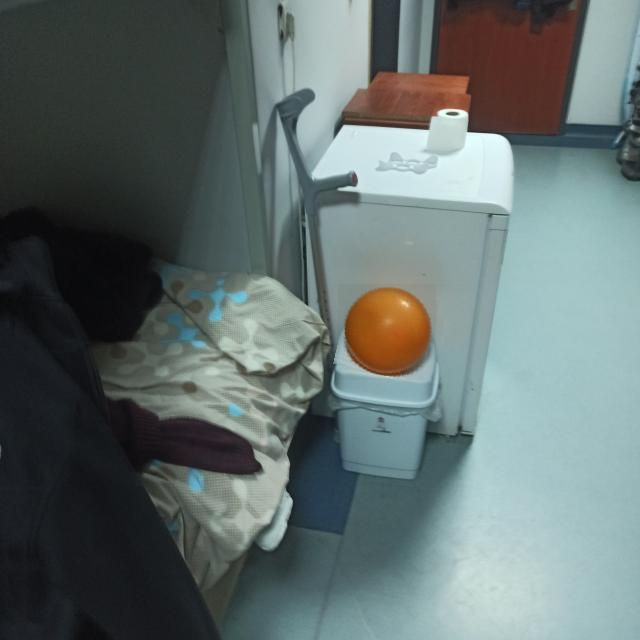balloon: (338, 284, 436, 380)
